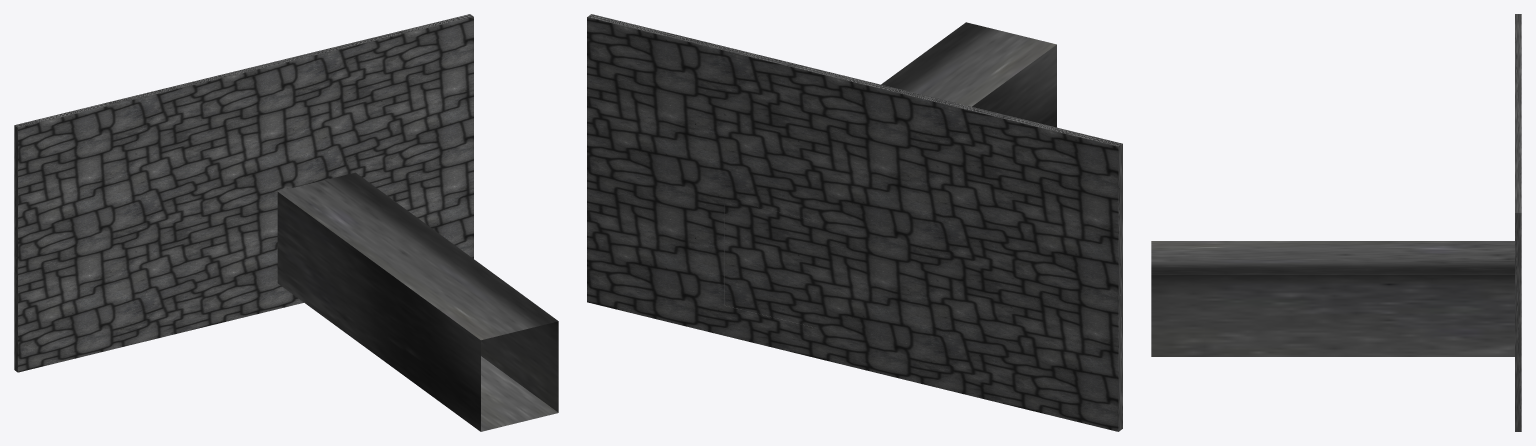
File: MurTunnel.fbx
3 views of the same model, side by side, from view 1: azimuth 30°, elevation 25°; view 2: azimuth 150°, elevation 25°; view 3: azimuth 270°, elevation 25° (orthographic). The views are drawn at different scales.
Parts seen in each view (by area): view 1: Cube.004, Cube.005; view 2: Cube.004, Cube.005, Cube.007; view 3: Cube.005, Cube.004.
Boxes of the visible parts, bbox=[...] form: Cube.004: bbox=[14, 14, 473, 372]; Cube.005: bbox=[277, 172, 558, 431]; Cube.004: bbox=[587, 14, 1122, 431]; Cube.005: bbox=[724, 22, 1056, 327]; Cube.007: bbox=[725, 199, 815, 327]; Cube.005: bbox=[1151, 241, 1514, 356]; Cube.004: bbox=[1515, 14, 1521, 431].
Bounding box in the file's own units: 4993 × 2560 × 3928.
